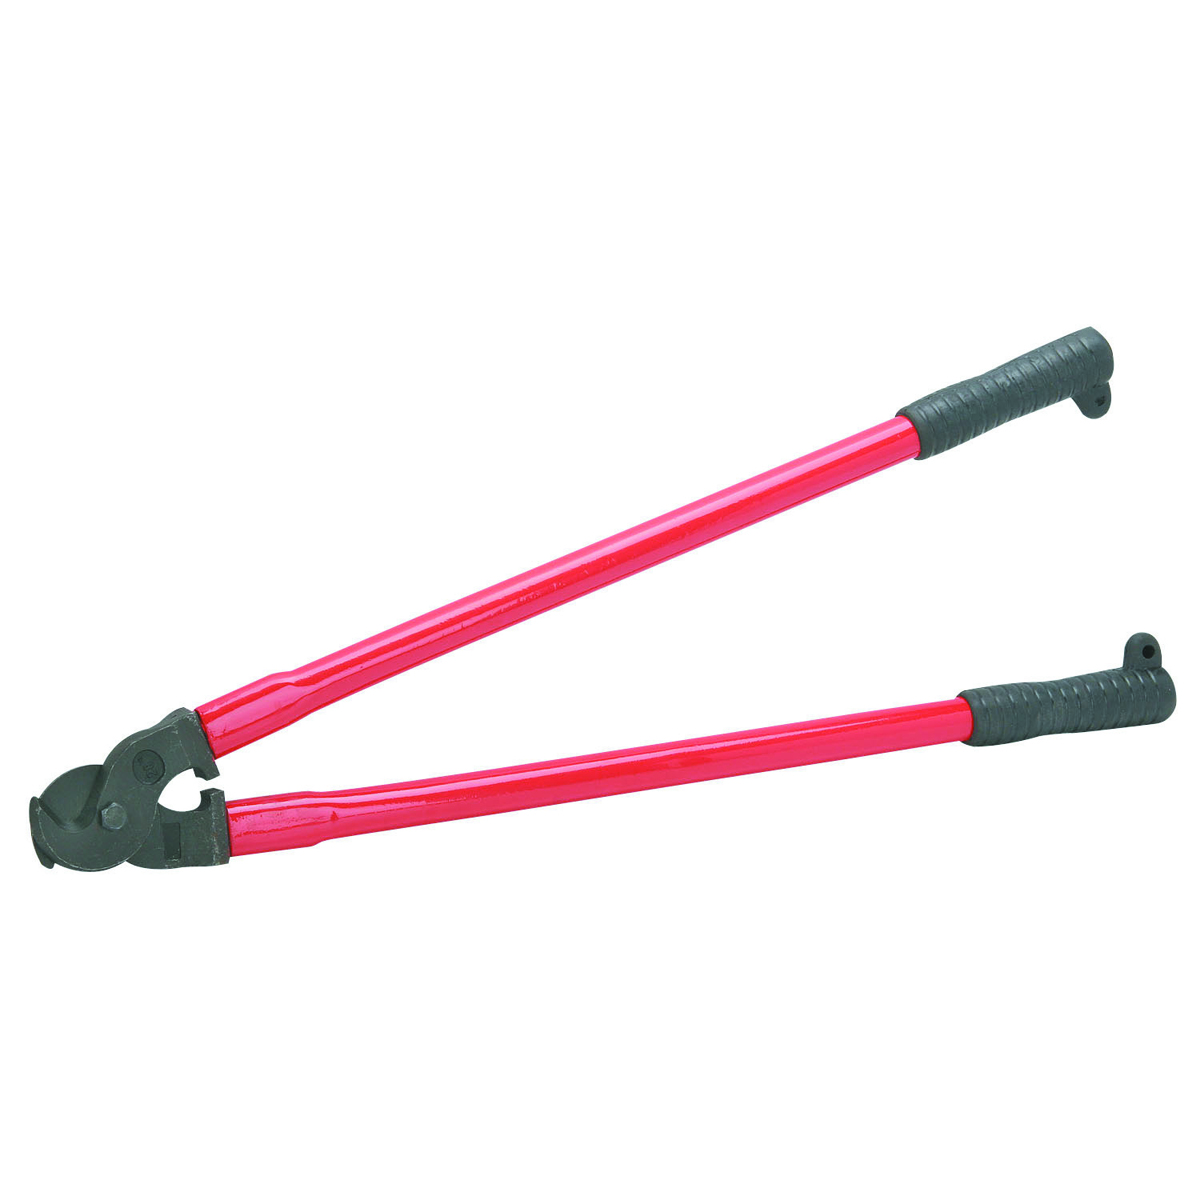Nonrec_Tangler: (1, 329, 1176, 956)
